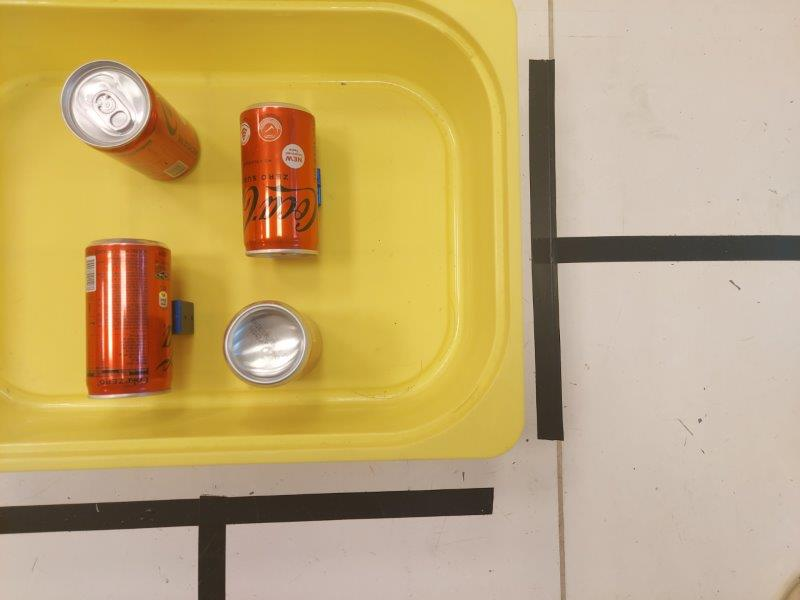Coke: (58, 60, 202, 182), (84, 237, 176, 398), (240, 102, 320, 257), (223, 301, 321, 386)
